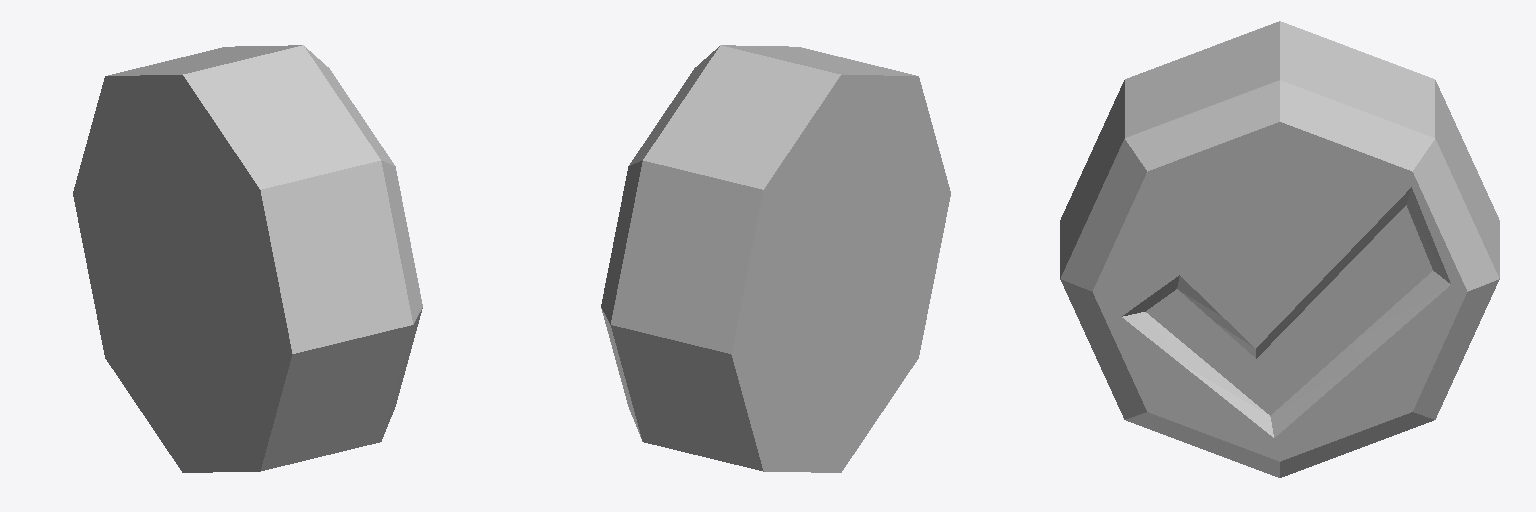
The model's file is Skill upgrated.obj.
The picture shows the model from 3 angles: view 1: azimuth 30°, elevation 25°; view 2: azimuth 150°, elevation 25°; view 3: azimuth 270°, elevation 25°; orthographic projection.
Parts seen in each view (by area): view 1: Circle.010_Circle.011; view 2: Circle.010_Circle.011; view 3: Circle.010_Circle.011.
Boxes of the visible parts, x1=… form: Circle.010_Circle.011: x1=73, y1=45, x2=422, y2=472; Circle.010_Circle.011: x1=601, y1=45, x2=950, y2=472; Circle.010_Circle.011: x1=1060, y1=21, x2=1499, y2=477.
Size of the model in its own units: 0.2285 by 0.5933 by 0.5933.